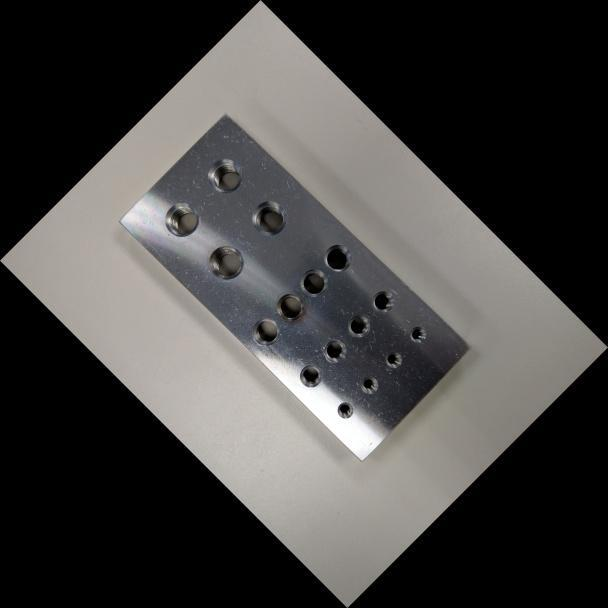hole: (199, 150, 251, 201), (201, 236, 252, 288), (243, 192, 295, 243), (157, 195, 207, 244), (245, 311, 286, 352), (293, 262, 334, 303), (317, 237, 358, 278), (269, 287, 309, 327), (341, 308, 376, 343), (293, 359, 327, 393), (317, 333, 351, 367), (366, 284, 400, 318), (355, 371, 383, 398), (405, 321, 431, 347), (333, 397, 358, 422), (381, 347, 406, 372)
